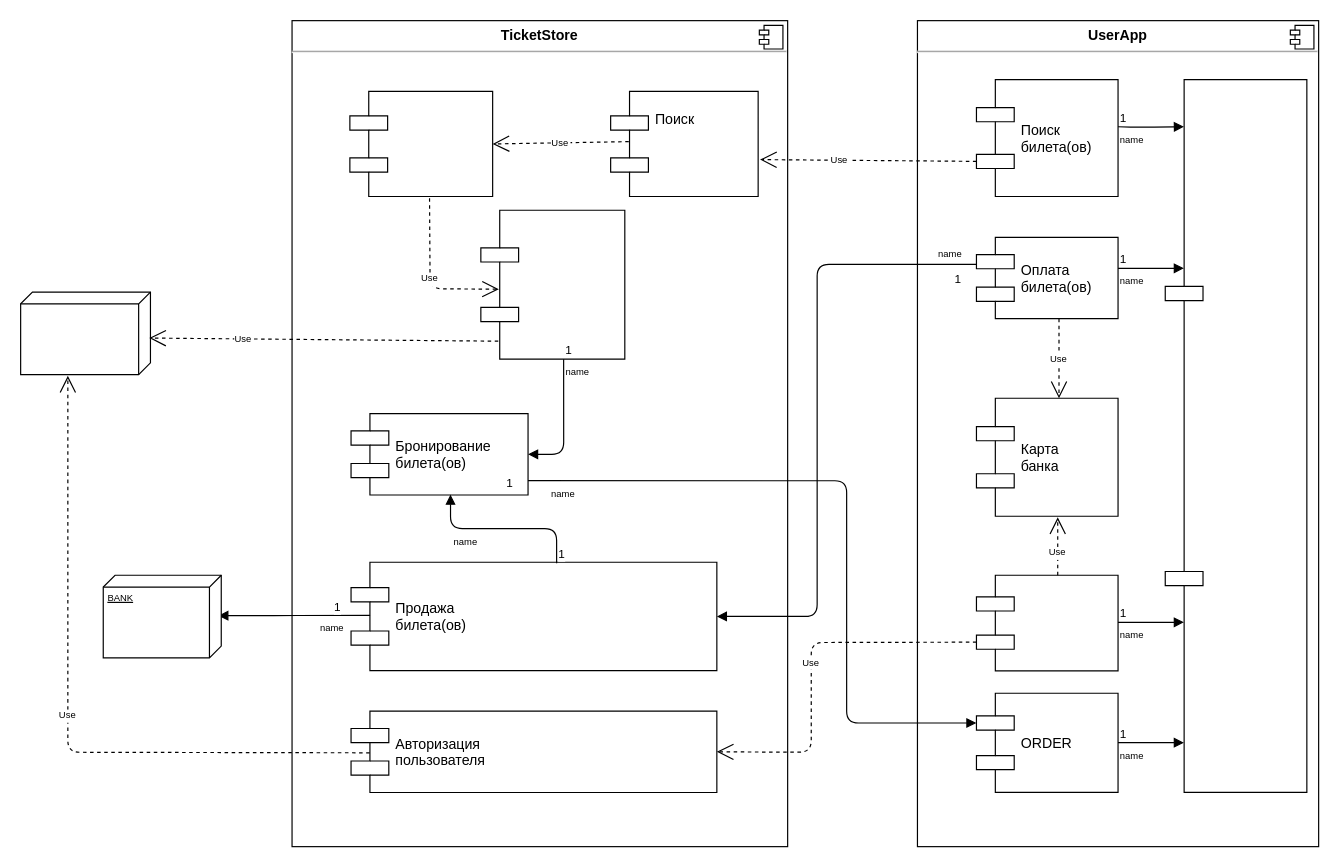
Some shapes in this 1339 by 867 pixel diagram are drawn without their labels. The box of each missing label's shape, as (x1, y1, x2, y2) in pixels:
DBConnector: (480, 209, 625, 359)
Авторизация: (975, 574, 1118, 671)
БД: (19, 291, 150, 375)
Графический интерфейс: (1164, 78, 1307, 792)
Станция продажи билетов: (349, 90, 493, 196)
